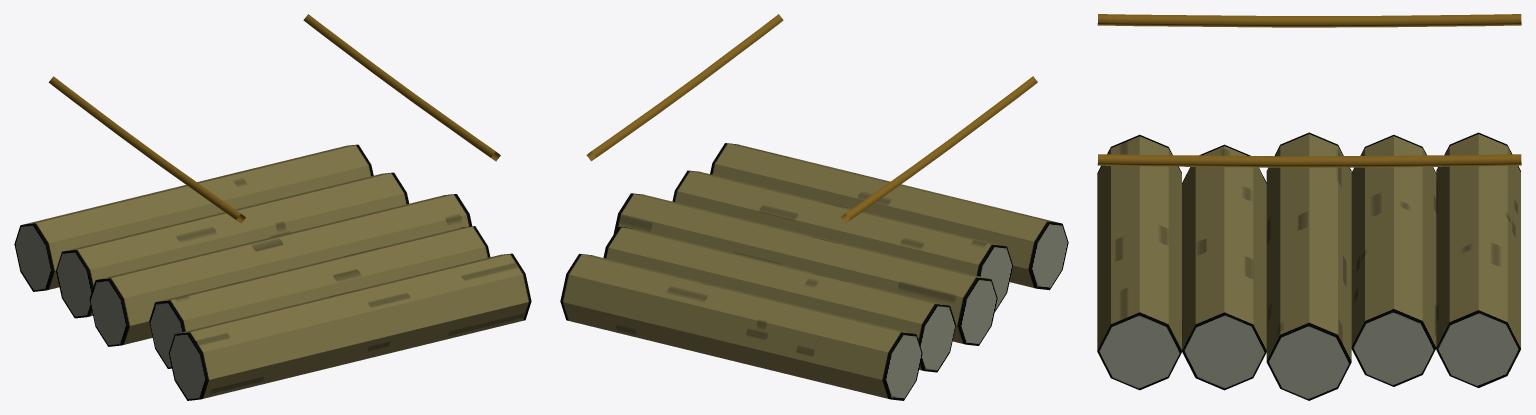
The model's file is Bridge_Mid1.glb.
The picture shows the model from 3 angles, left to right: view 1: azimuth 30°, elevation 25°; view 2: azimuth 150°, elevation 25°; view 3: azimuth 270°, elevation 25°; orthographic projection. The views are drawn at different scales.
Visible parts, largest first — view 1: Bridge_Mid1; view 2: Bridge_Mid1; view 3: Bridge_Mid1.
Boxes of the visible parts, <box> form: Bridge_Mid1: <box>14,14,531,400</box>; Bridge_Mid1: <box>560,14,1068,400</box>; Bridge_Mid1: <box>1097,14,1521,400</box>.
Size of the model in its own units: 2.14 by 1.13 by 2.
Materials: 1 (1 with a texture image).
